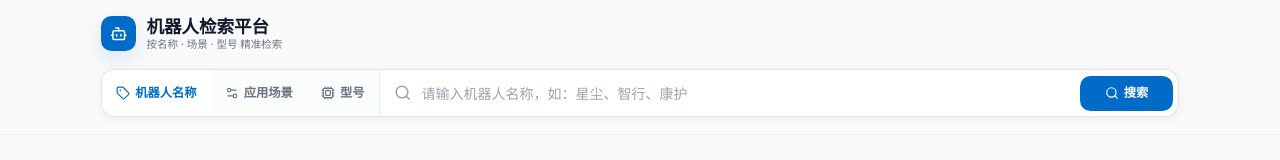
Scenario: SearchBar.vue - 搜索组件 › 输入与清除 › 输入内容后显示清除按钮
In the field with placeholder "请输入机器人名称，如：星尘、智行、康护": {"x": 743, "y": 93} [411,70,1075,116], type "测试"
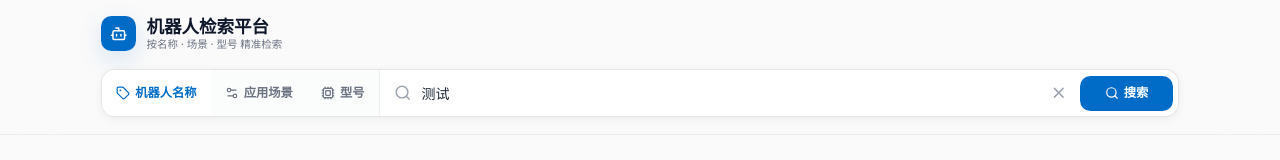
Expected: the button named "清除关键词" is shown, [1047,81,1071,105]
